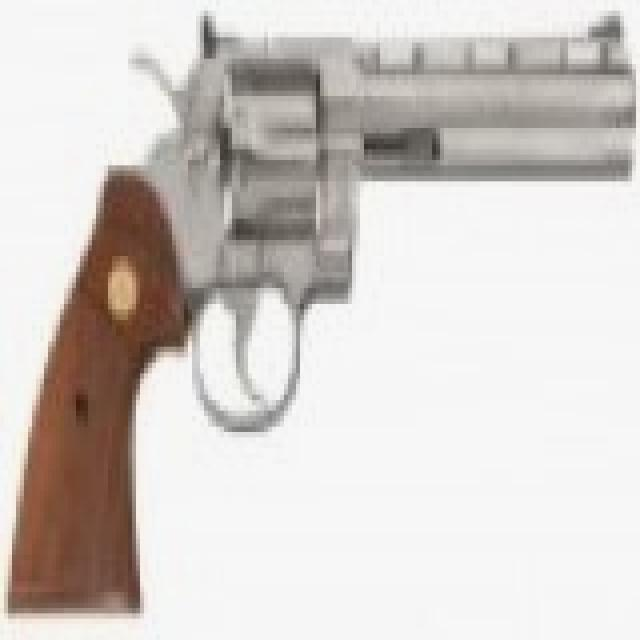pistol: (12, 0, 636, 608)
